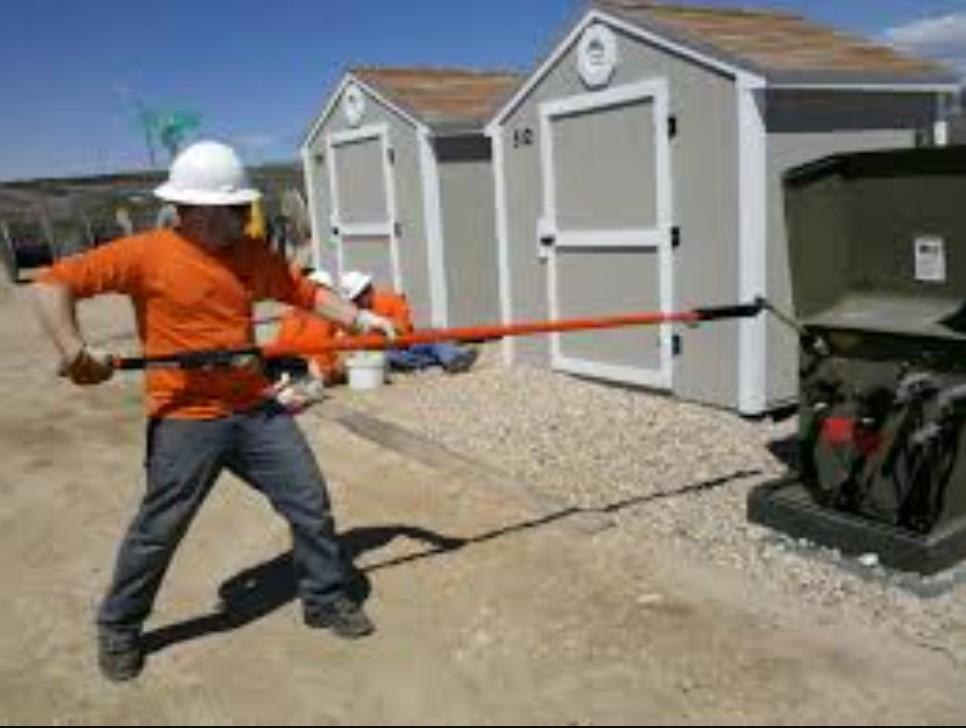Vara_Manobra: (54, 294, 764, 384)
